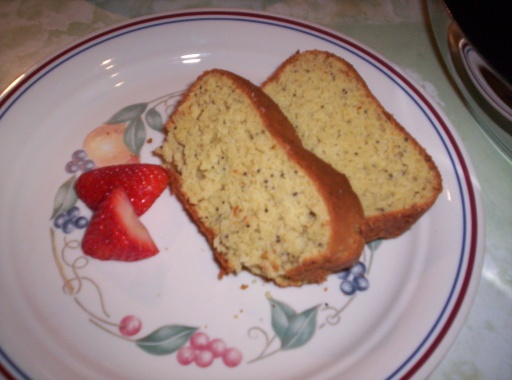background: (58, 29, 354, 170)
